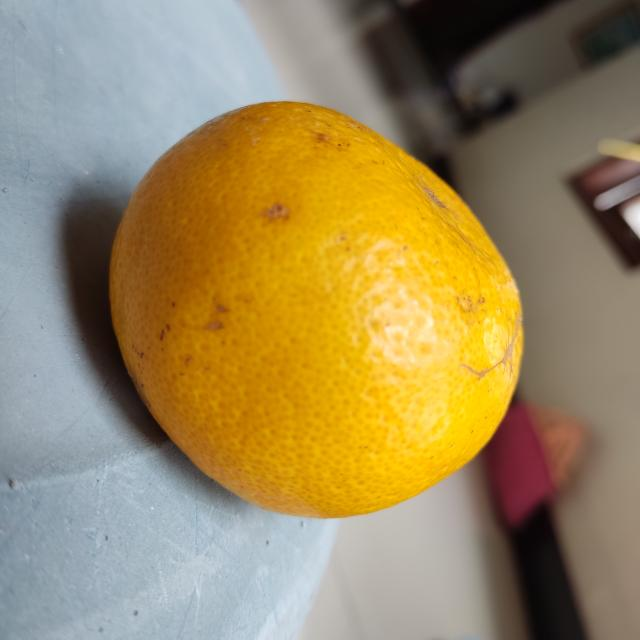orange: (107, 100, 522, 522)
